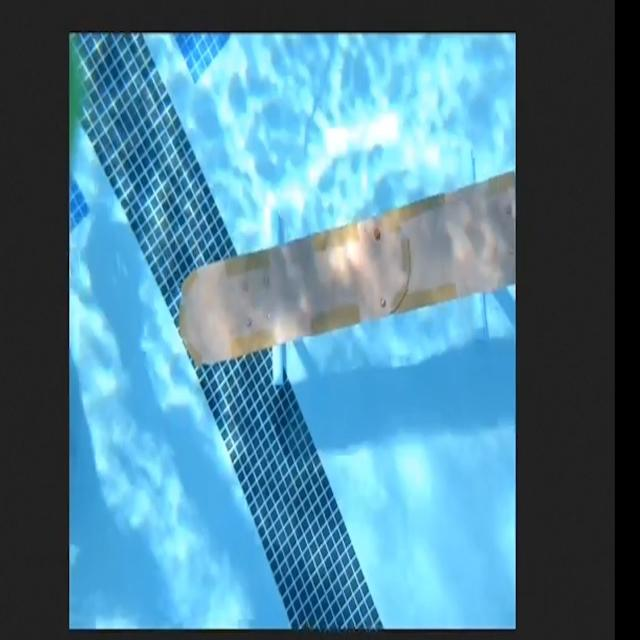Path: (164, 162, 515, 388)
